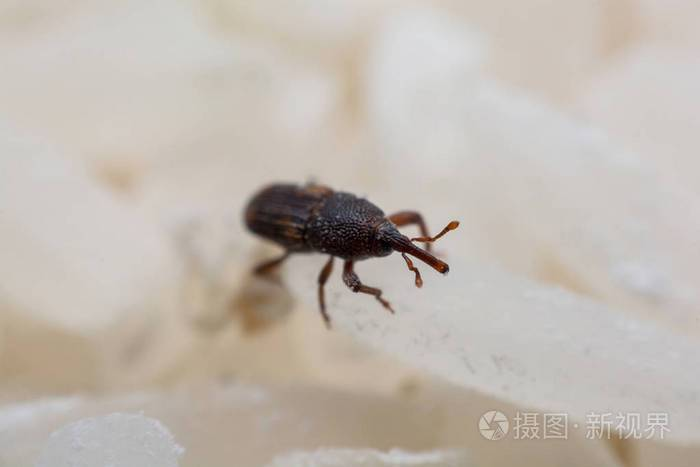Curculionidae: (243, 179, 459, 332)
